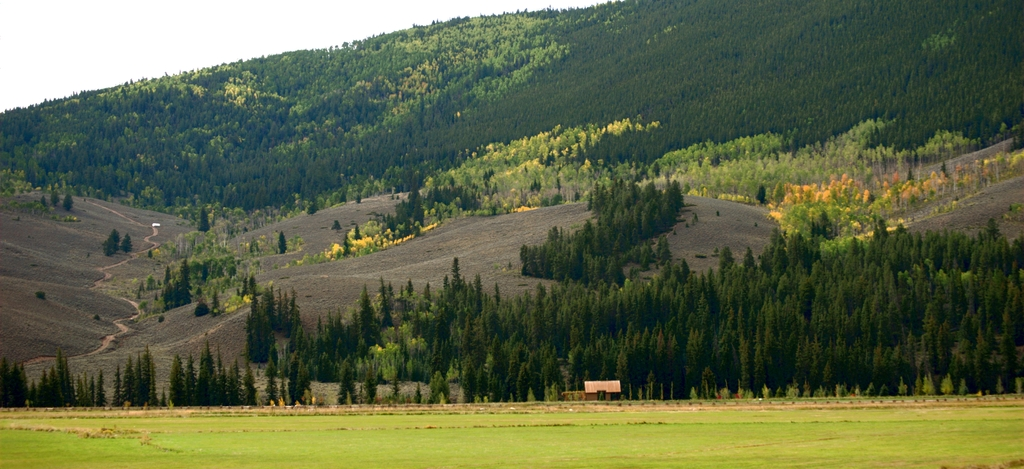Tree: (215, 222, 1023, 401), (525, 165, 690, 291), (370, 178, 490, 247), (168, 337, 275, 408), (0, 348, 105, 403), (113, 363, 168, 402)
